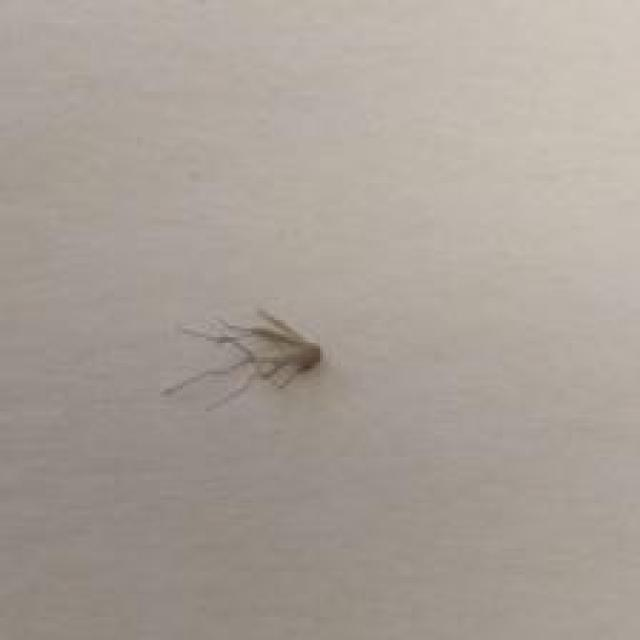Culex: (160, 307, 323, 413)
